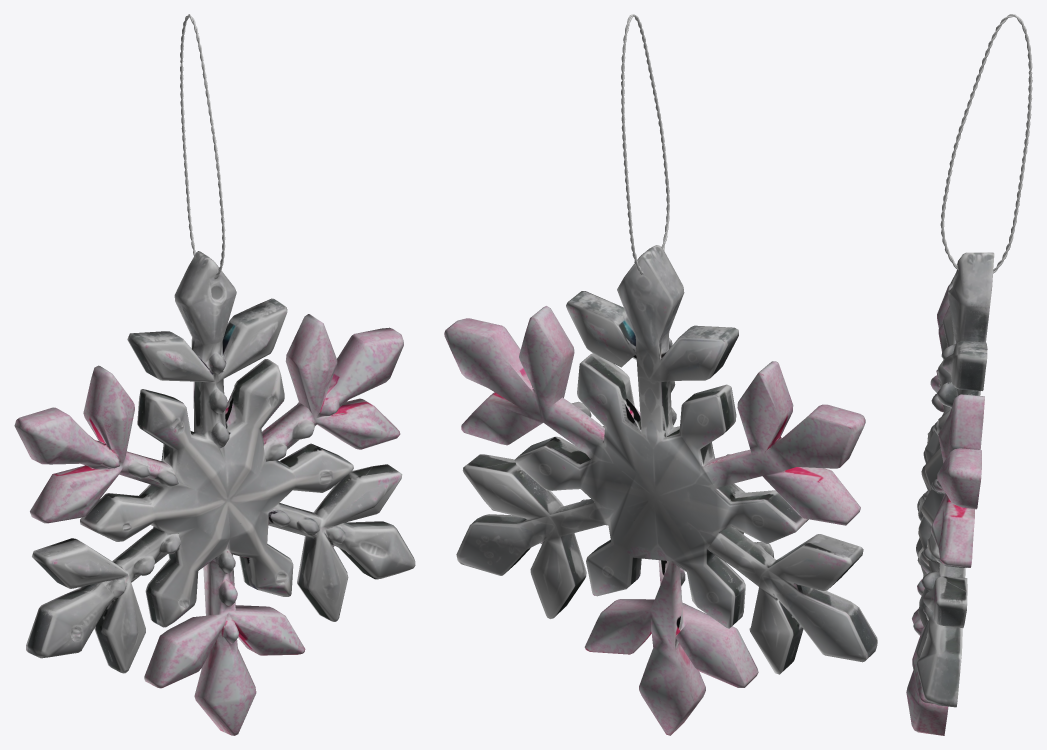
The model's file is snowFlake.glb.
3 views of the same model, side by side, from view 1: azimuth 30°, elevation 25°; view 2: azimuth 150°, elevation 25°; view 3: azimuth 270°, elevation 25° (orthographic). The views are drawn at different scales.
Parts seen in each view (by area): view 1: Meshy_AI_Pink_Glitter_Snowflak_0624171152_texture, GN Instance; view 2: Meshy_AI_Pink_Glitter_Snowflak_0624171152_texture, GN Instance; view 3: Meshy_AI_Pink_Glitter_Snowflak_0624171152_texture, GN Instance.
Boxes of the visible parts, x1,y1,x2,y2 form: Meshy_AI_Pink_Glitter_Snowflak_0624171152_texture: [14, 251, 415, 735]; GN Instance: [180, 14, 225, 279]; Meshy_AI_Pink_Glitter_Snowflak_0624171152_texture: [444, 245, 877, 735]; GN Instance: [621, 14, 669, 274]; Meshy_AI_Pink_Glitter_Snowflak_0624171152_texture: [906, 252, 994, 735]; GN Instance: [940, 14, 1032, 273].
Bounding box in the file's own units: 0.0901 × 0.1565 × 0.0248.
Materials: 2 (1 with a texture image).
